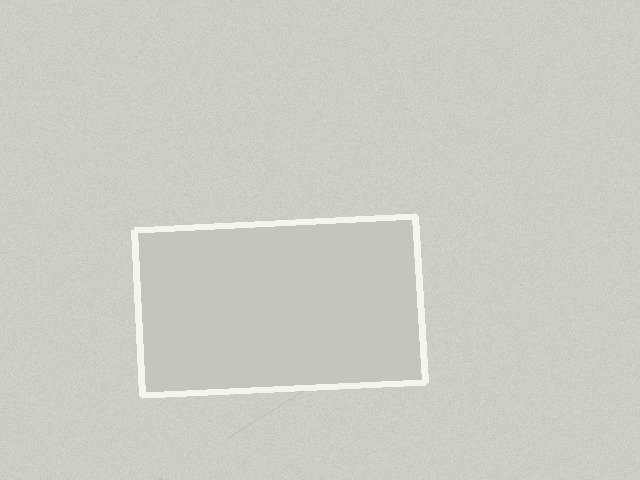parking_area: (134, 216, 425, 395)
